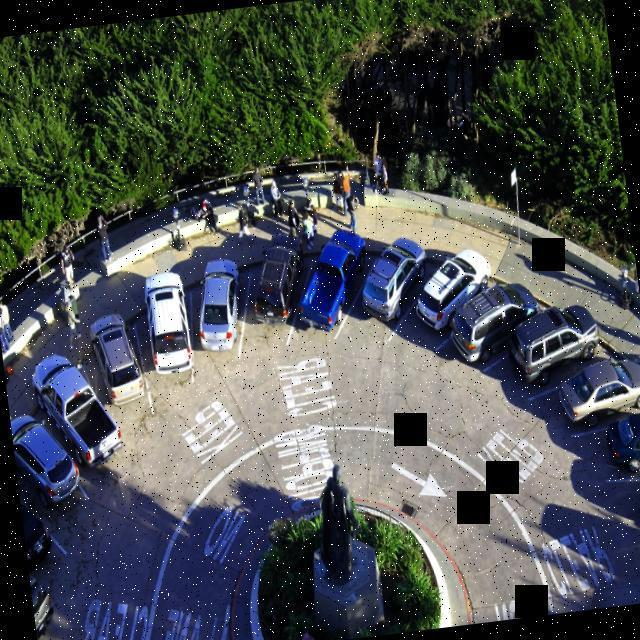car: (123, 262, 204, 428), (40, 354, 125, 502), (9, 406, 96, 550), (398, 252, 493, 361), (344, 239, 434, 353), (487, 310, 598, 402), (184, 252, 253, 394), (234, 244, 310, 370), (90, 317, 158, 457), (541, 352, 640, 435), (296, 240, 368, 352), (451, 277, 538, 368), (594, 412, 640, 480)
